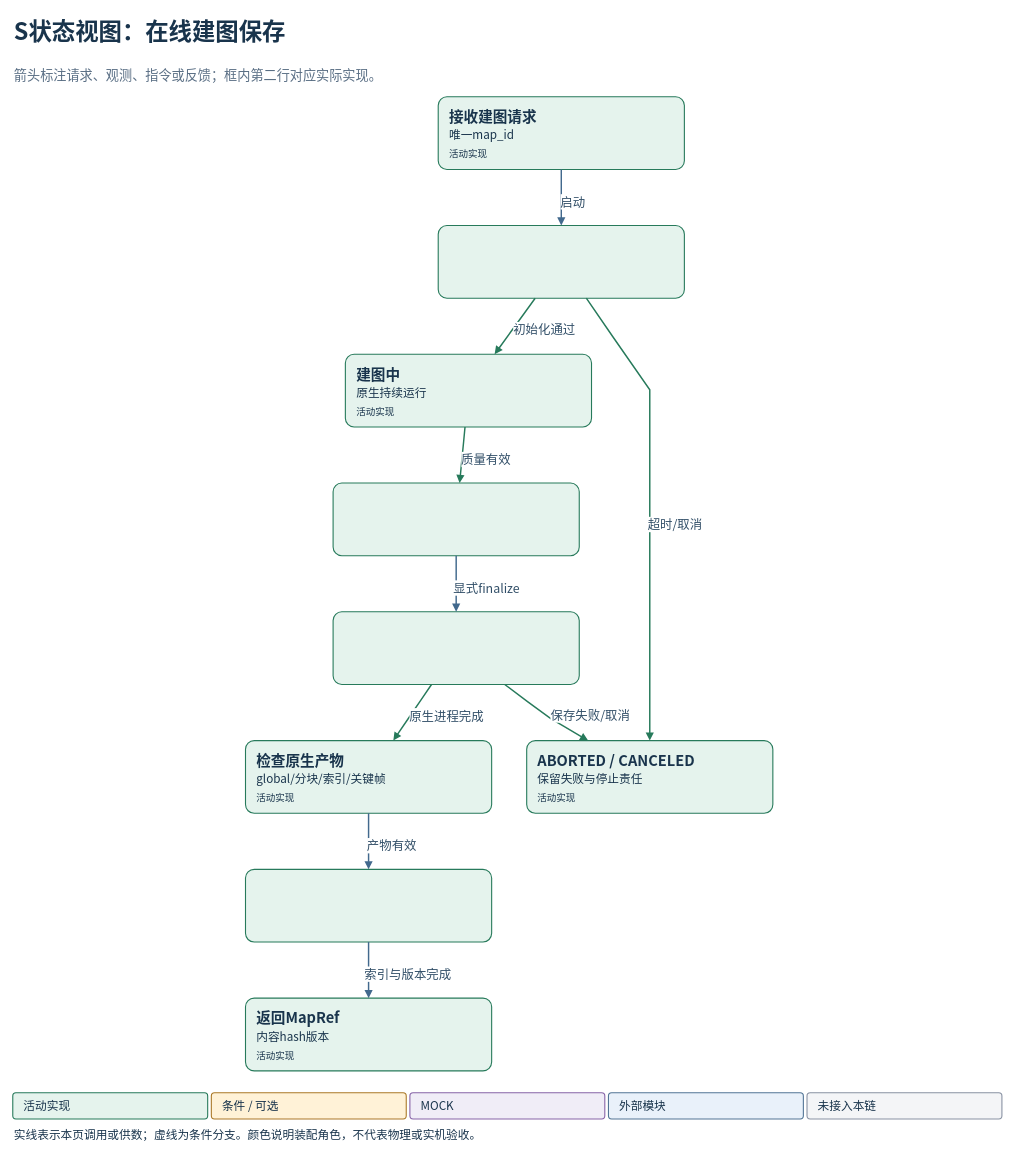
The diagram is 1018 pixels wide and 1159 high, and some of its shapes have lost their labels. Here are the shapes that lost their labels. From the top down, the centre of each, then its label:
the point at 561,261: 等待IMU 静止统计与源时间 活动实现
the point at 455,519: mapping_ready 新鲜LIO_TRACKING 活动实现
the point at 455,648: saving_map finalize后SIGINT与60s等待 活动实现
the point at 368,905: 构建ScanContext索引 局部关键帧云 活动实现
